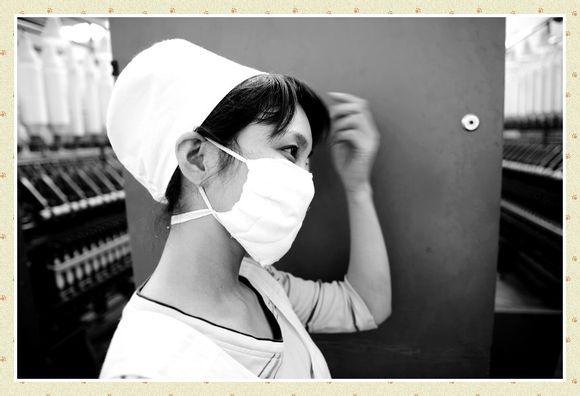OK: (189, 125, 319, 255)
